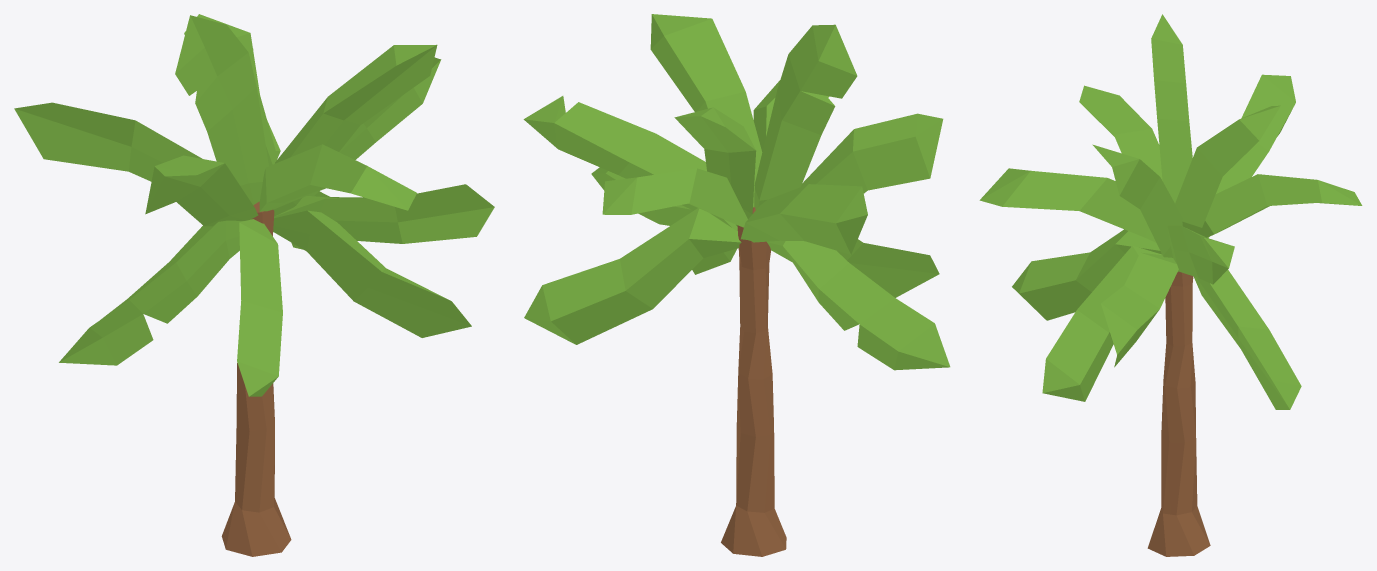
The model's file is palm-round.glb.
3 renders of one model, left to right at view 1: azimuth 30°, elevation 25°; view 2: azimuth 150°, elevation 25°; view 3: azimuth 270°, elevation 25°, orthographic. The views are drawn at different scales.
Visible parts, largest first — view 1: palm-round; view 2: palm-round; view 3: palm-round.
Boxes of the visible parts, left/top/right/bottom form: palm-round: left=14, top=14, right=494, bottom=556; palm-round: left=523, top=14, right=950, bottom=556; palm-round: left=979, top=14, right=1362, bottom=556.
Bounding box in the file's own units: 3.73 × 4.75 × 3.32.
Materials: 1 (1 with a texture image).
